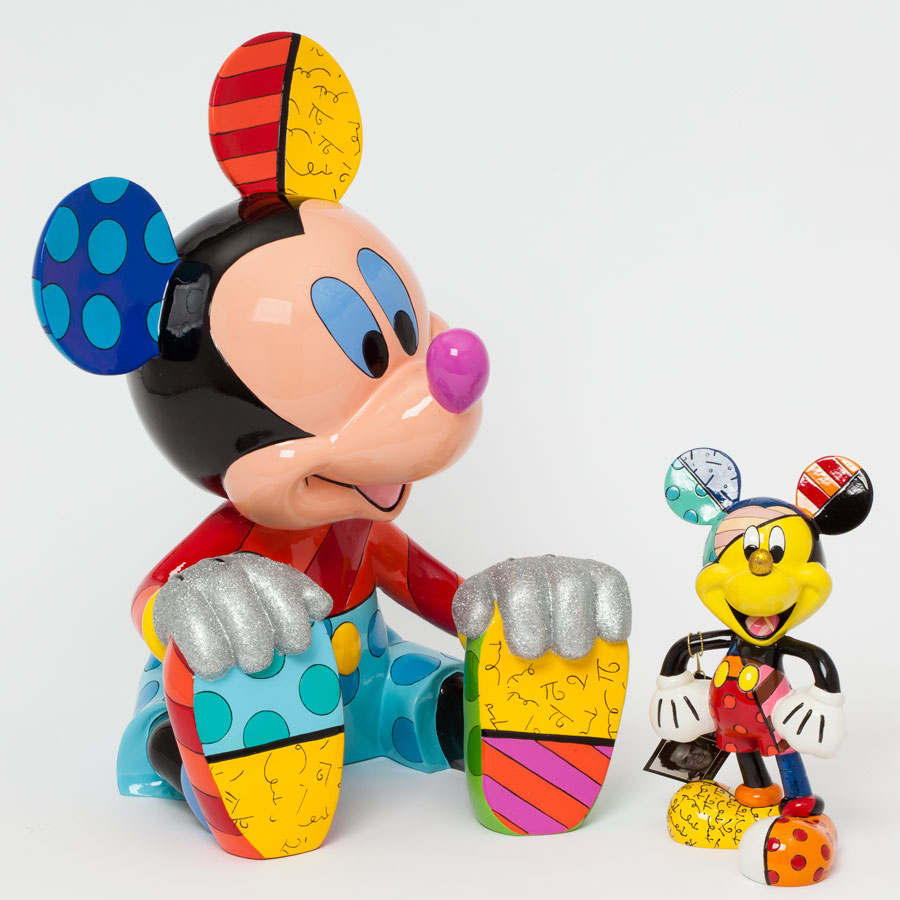Mickey: (29, 28, 500, 533), (661, 447, 873, 645)
